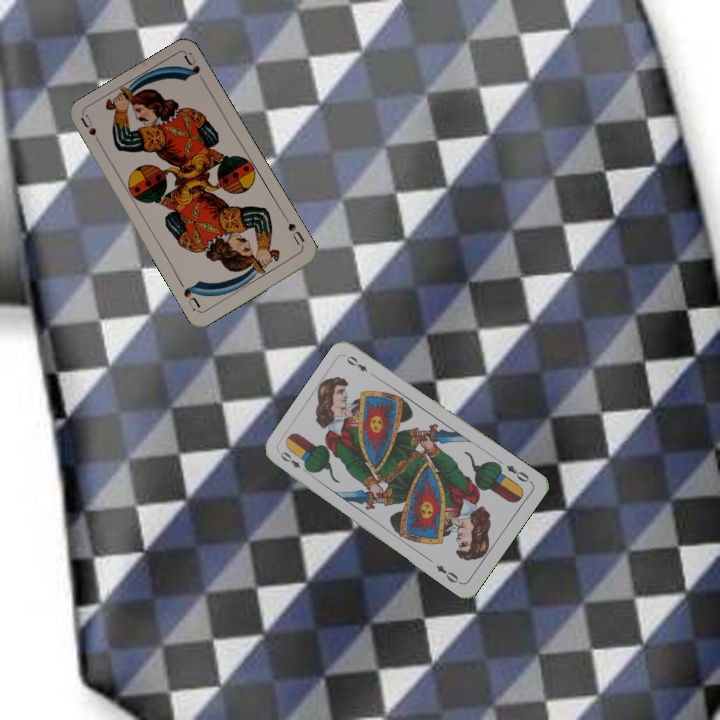EO: (276, 447, 312, 476), (502, 461, 534, 486)
SU: (77, 112, 105, 150), (281, 213, 307, 250)
